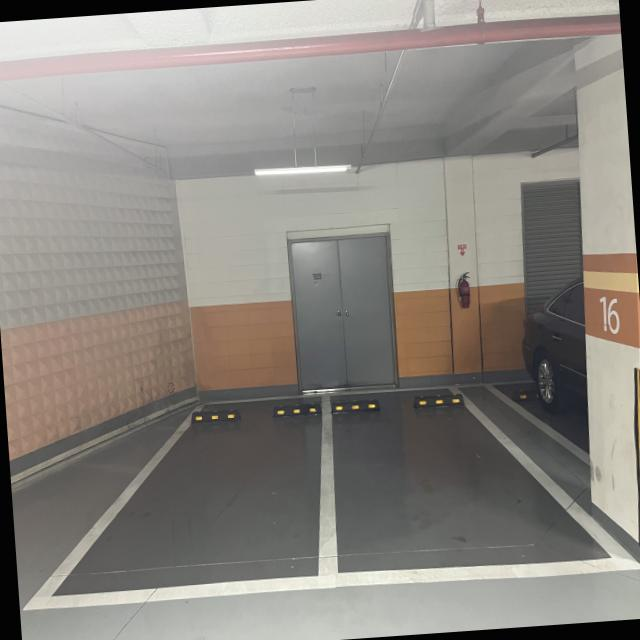free: (326, 381, 588, 588), (129, 388, 334, 586)
